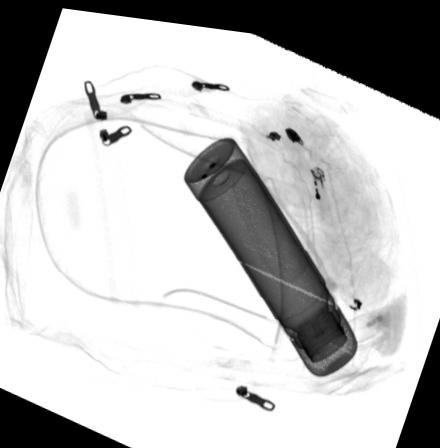Lighter: (309, 155, 333, 216)
